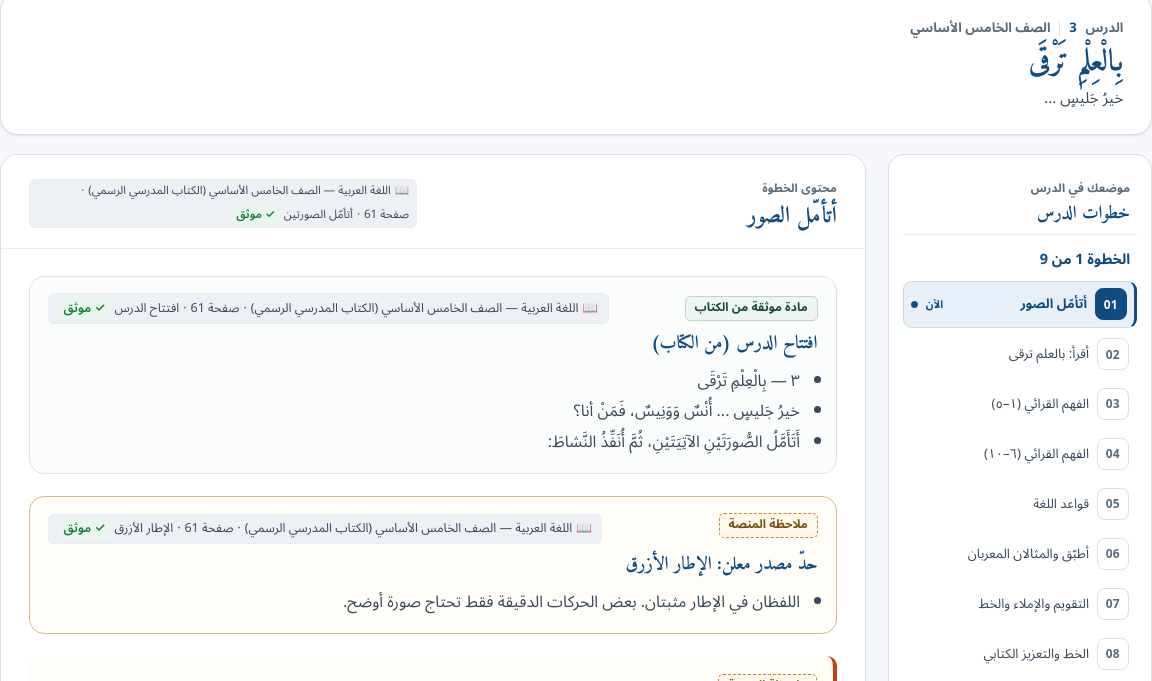
Test case: PR 3b — unit2-lesson3: listening block out, grammar kept in the same step › renders the grammar step without the oral section
Step 1. Click the button with aria-label "الخطوة 5: قواعد اللغة" → (1020, 504), box [903, 480, 1137, 528]
(page scrolled)
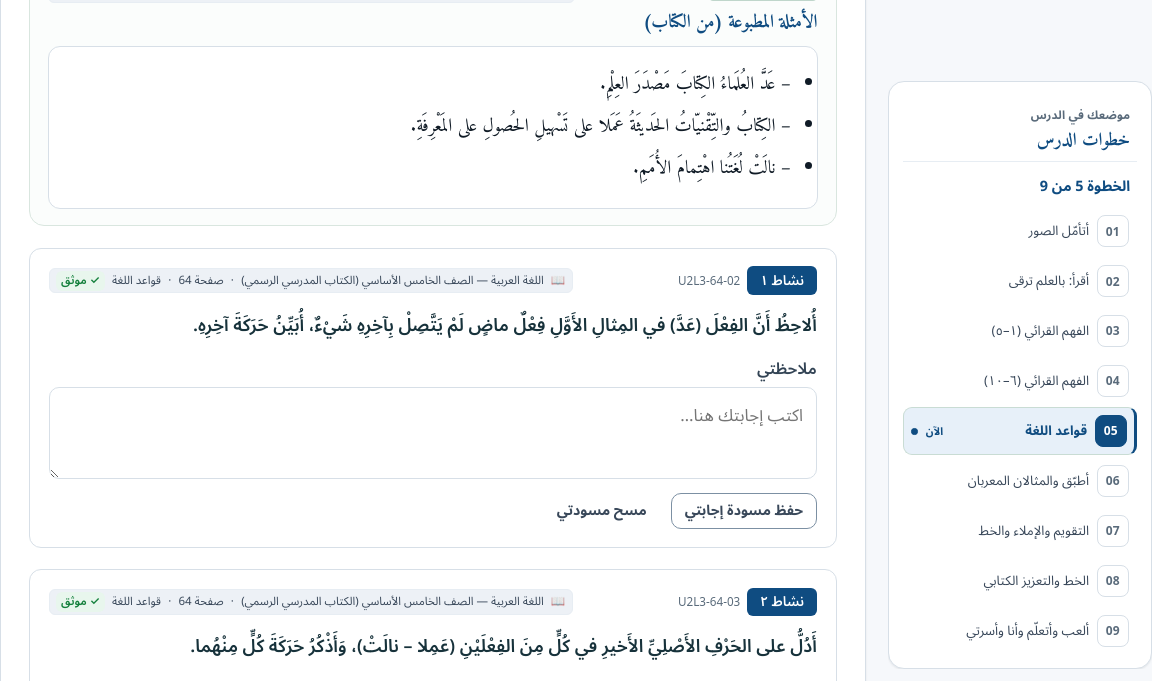
Expected: the element named "نشاط المصدر U2L3-64-02" is shown, [29, 248, 837, 548]
